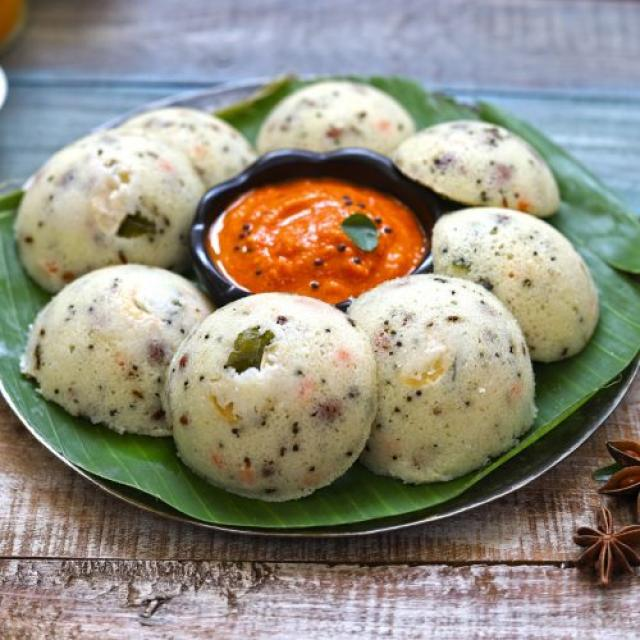Wet Waste: (338, 270, 535, 467), (175, 289, 369, 489), (17, 256, 235, 429), (15, 122, 210, 286), (431, 198, 599, 352), (386, 115, 574, 227), (250, 79, 420, 169), (105, 102, 256, 191)
